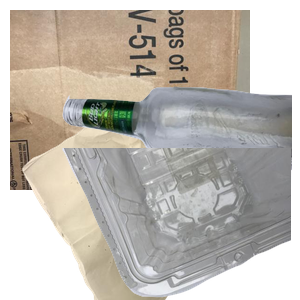cardboard: (10, 10, 250, 190)
glass: (60, 84, 300, 260)
plastic: (60, 148, 300, 300)
trash: (20, 120, 260, 300)
